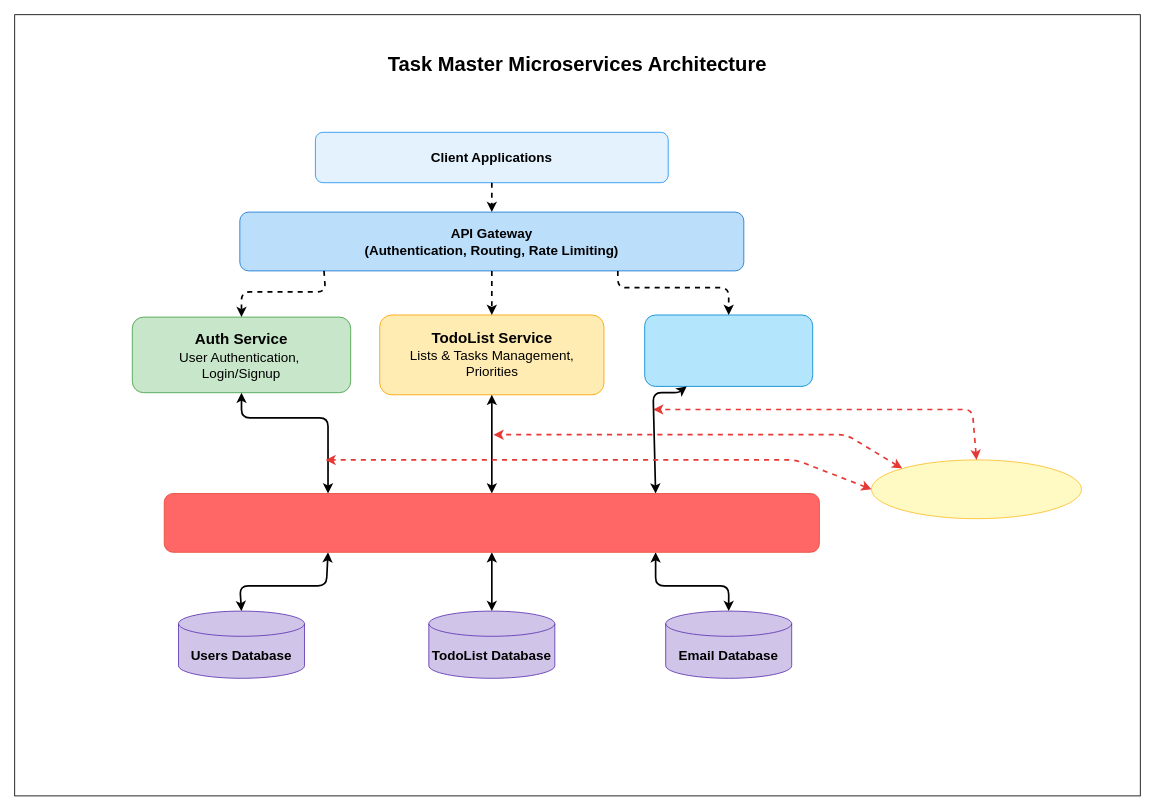
Image size: 1155x811. Some labels were removed from this diagram. Here are the shapes that lost their labels. From the top down, the box of each, then its label:
(644, 314, 813, 386): Email Service Email Templates Sending & Tracking
(871, 459, 1082, 519): Messege Broker
(163, 493, 819, 552): Redis Cache Layer Distributed Caching
